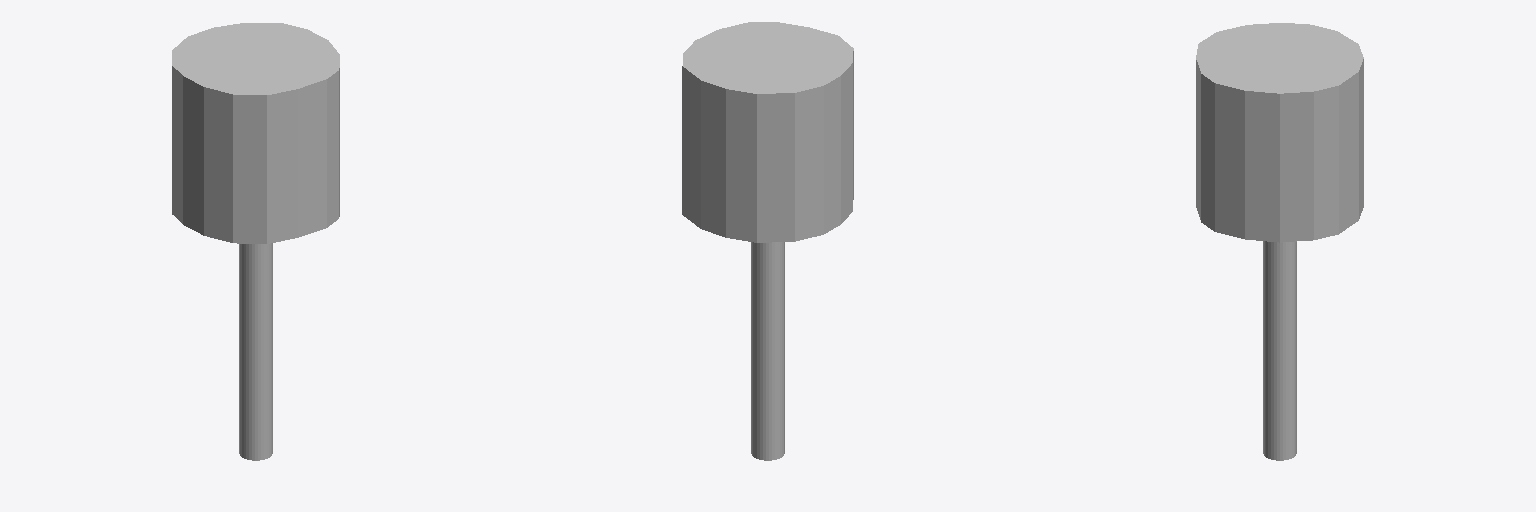
The model's file is enemy.obj.
The picture shows the model from 3 angles: view 1: azimuth 30°, elevation 25°; view 2: azimuth 150°, elevation 25°; view 3: azimuth 270°, elevation 25°; orthographic projection.
Visible parts, largest first — view 1: 円柱.001; view 2: 円柱.001; view 3: 円柱.001.
Part boxes in pixels (left/top/right/bottom): 円柱.001: left=172, top=23, right=339, bottom=460; 円柱.001: left=682, top=22, right=853, bottom=460; 円柱.001: left=1196, top=23, right=1363, bottom=460.
Size of the model in its own units: 1.54 by 3.99 by 1.54.